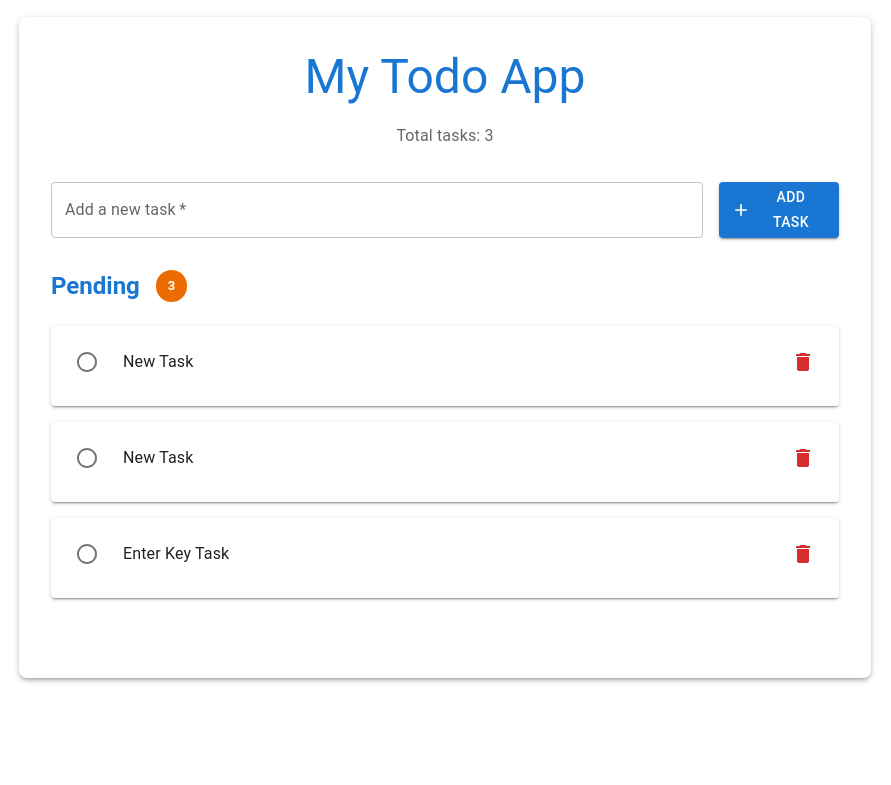
Test case: App › should toggle task completion
The image size is (891, 785).
Type "Unique Toggle Task 123" into the field labelled "Add a new task *" at (377, 210), box [51,182,703,238]
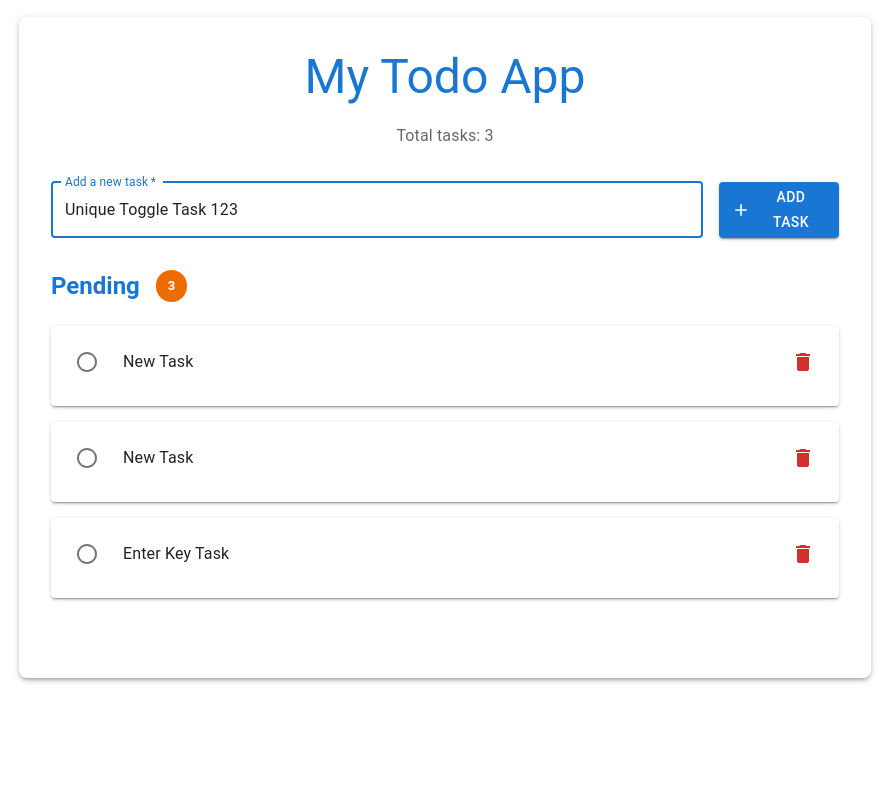
Click the button "Add Task" at (779, 210), box [719,182,839,238]
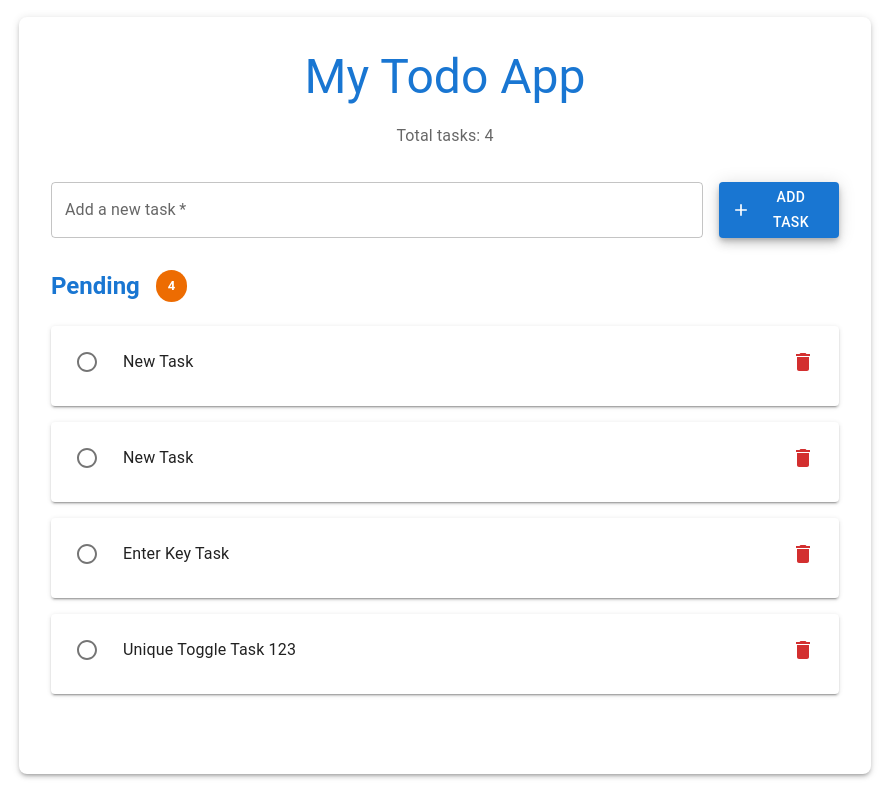
Check: the text "Unique Toggle Task 123" is shown, box [123,640,296,659]
Check: the button named "Mark as complete" next to "Unique Toggle Task 123" is shown
Click the button named "Mark as complete" next to "Unique Toggle Task 123" at (87, 650), box [67,630,107,670]
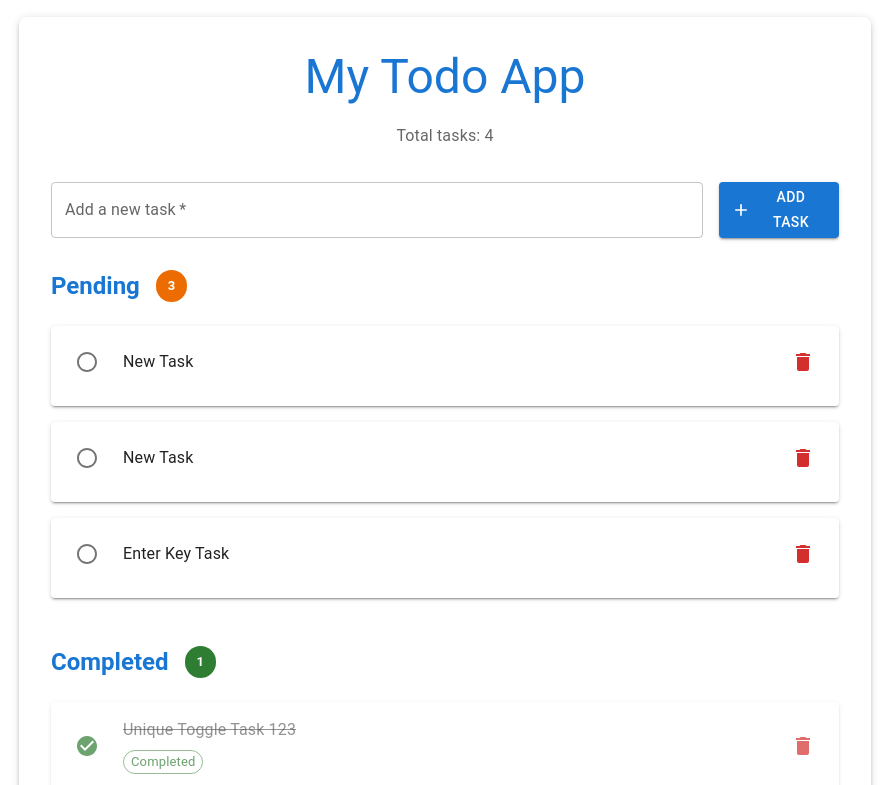
Check: the text "Completed" is shown, box [131,754,196,769]
